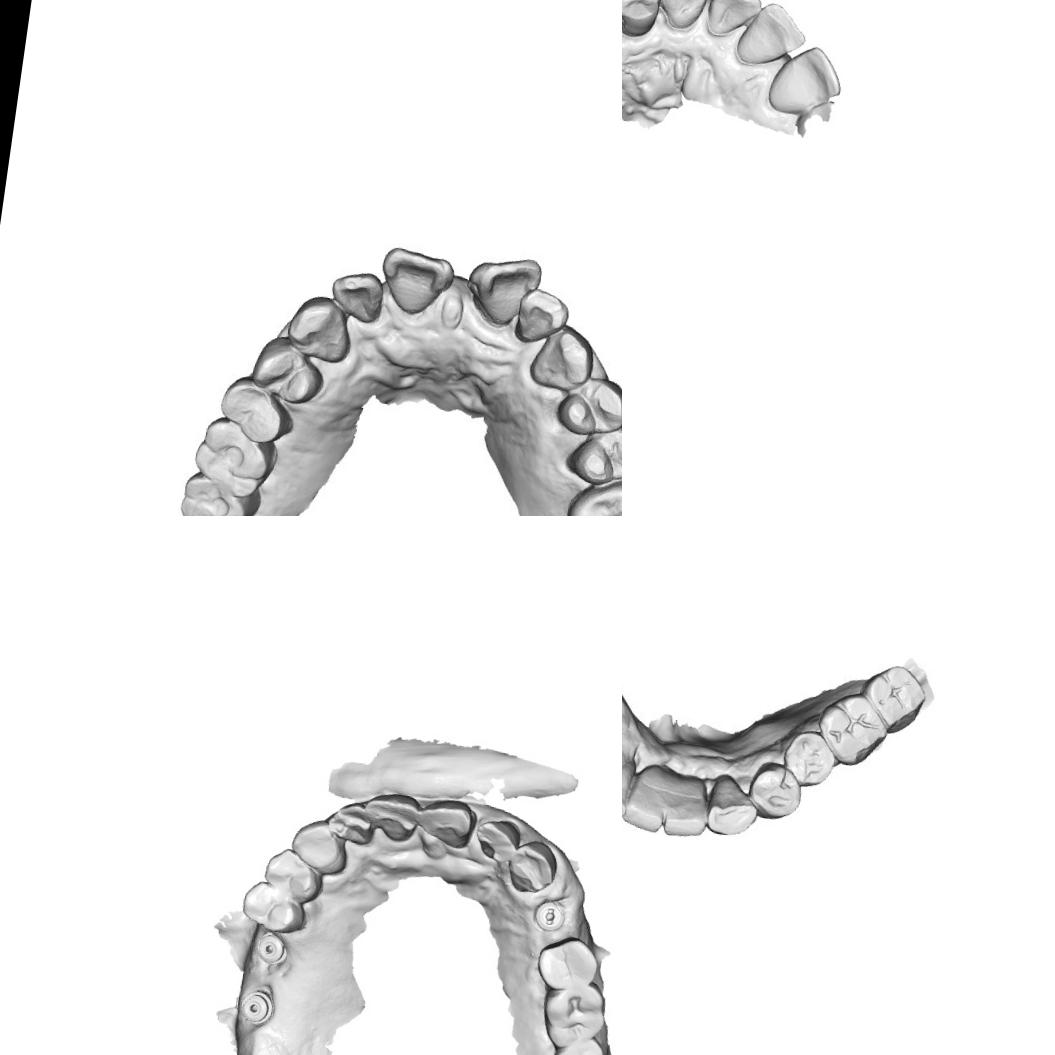canine: (529, 324, 597, 390), (289, 298, 354, 364), (286, 815, 353, 879), (705, 774, 762, 842), (504, 836, 561, 899), (656, 0, 714, 33)
implant: (236, 985, 278, 1028), (252, 930, 290, 970)
implant_minus: (532, 896, 570, 936)
incisor: (766, 40, 847, 120), (468, 250, 541, 327), (735, 0, 811, 72), (381, 245, 455, 316), (511, 282, 573, 349), (662, 768, 718, 841), (414, 793, 479, 852), (626, 761, 678, 834), (360, 786, 422, 846), (331, 268, 392, 324), (471, 815, 525, 868), (324, 798, 375, 850), (702, 0, 764, 42), (622, 750, 642, 818)
molar: (190, 415, 276, 493), (536, 974, 611, 1054), (818, 693, 888, 770), (864, 662, 930, 735), (172, 471, 254, 516), (565, 480, 622, 516), (545, 1031, 610, 1055)
premolar: (218, 376, 293, 447), (532, 930, 603, 996), (238, 877, 310, 937), (254, 339, 318, 402), (260, 844, 325, 905), (562, 375, 622, 438), (745, 764, 801, 821), (782, 729, 834, 788), (576, 425, 622, 485), (622, 0, 665, 41)
